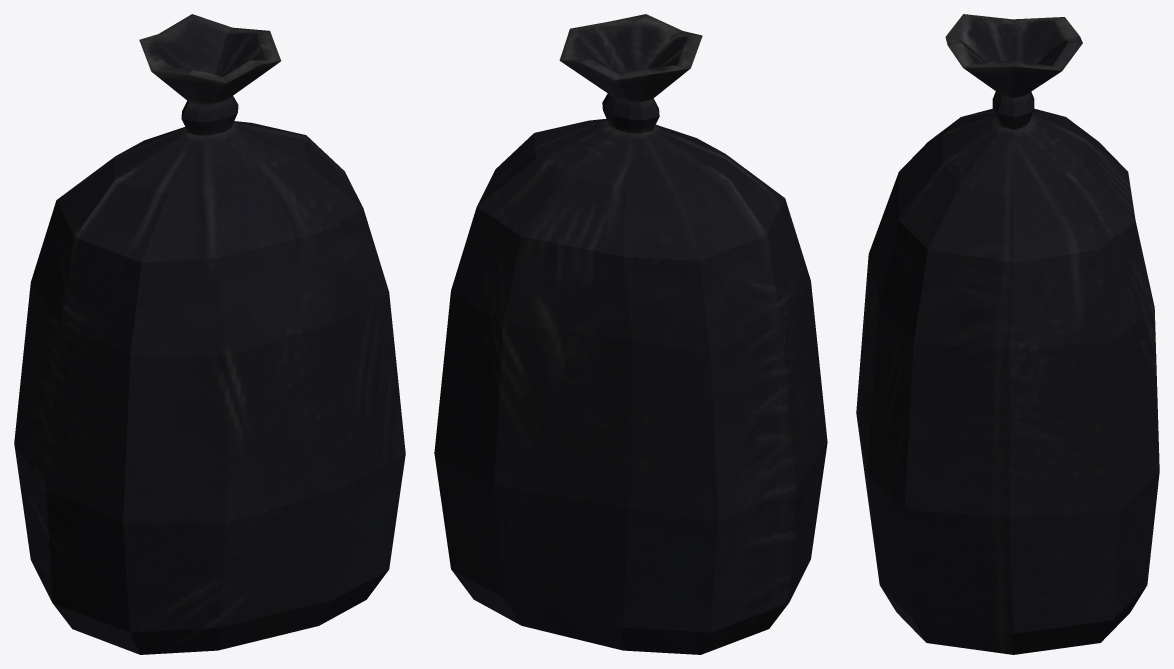
The model's file is garbage.glb.
3 renders of one model, left to right at view 1: azimuth 30°, elevation 25°; view 2: azimuth 150°, elevation 25°; view 3: azimuth 270°, elevation 25°, orthographic.
Visible parts, largest first — view 1: RIFIUTI; view 2: RIFIUTI; view 3: RIFIUTI.
Part boxes in pixels (x1=…): RIFIUTI: x1=14, y1=14, x2=405, y2=654; RIFIUTI: x1=434, y1=14, x2=827, y2=654; RIFIUTI: x1=856, y1=14, x2=1159, y2=654.
Bounding box in the file's own units: 0.3604 × 0.5764 × 0.2868.
Materials: 1 (1 with a texture image).
